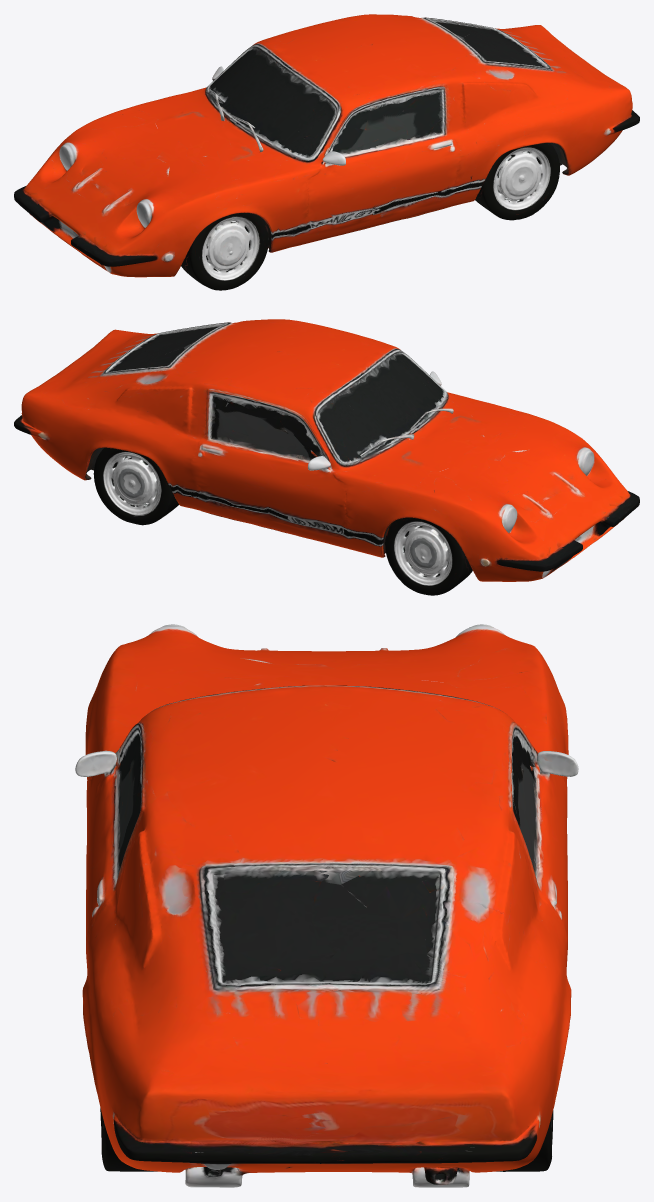
File: manic-gt.glb
3 renders of one model, top to bottom at view 1: azimuth 30°, elevation 25°; view 2: azimuth 150°, elevation 25°; view 3: azimuth 270°, elevation 25°, orthographic. The views are drawn at different scales.
Visible parts, largest first — view 1: Mesh_0; view 2: Mesh_0; view 3: Mesh_0.
Boxes of the visible parts, bbox=[...] form: Mesh_0: bbox=[14, 14, 639, 290]; Mesh_0: bbox=[14, 319, 639, 595]; Mesh_0: bbox=[75, 624, 578, 1187].
Bounding box in the file's own units: 1 × 0.2777 × 0.404.
1 material, 1 textured.
